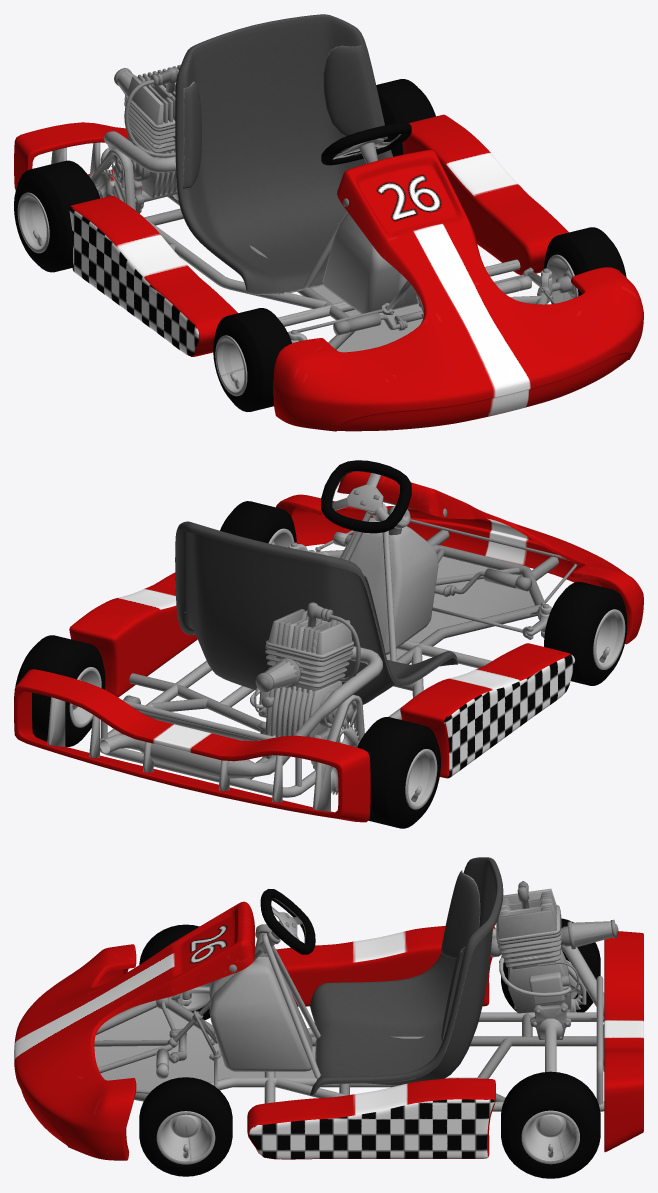
Rendered from cart.FBX.
The picture shows the model from 3 angles, top to bottom: view 1: azimuth 30°, elevation 25°; view 2: azimuth 150°, elevation 25°; view 3: azimuth 270°, elevation 25°; orthographic projection. The views are drawn at different scales.
Parts seen in each view (by area): view 1: Object001; view 2: Object001; view 3: Object001.
Part boxes in pixels (x1,y1,x2,y2): Object001: [14, 14, 643, 431]; Object001: [14, 460, 643, 828]; Object001: [14, 857, 643, 1178].
Size of the model in its own units: 24.71 by 13.29 by 36.66.
